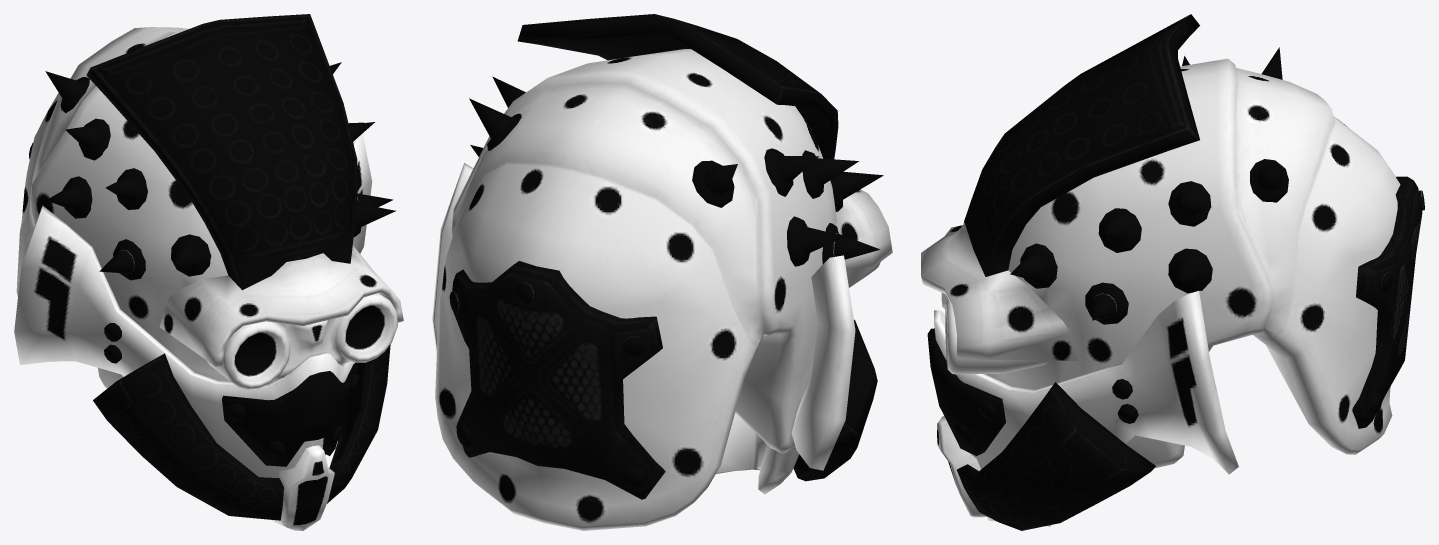
Rendered from SurvivorMale_Head_Helmet_Wasteland2_LOD0.glb.
3 renders of one model, left to right at view 1: azimuth 30°, elevation 25°; view 2: azimuth 150°, elevation 25°; view 3: azimuth 270°, elevation 25°, orthographic. The views are drawn at different scales.
Parts seen in each view (by area): view 1: Hoodie; view 2: Hoodie; view 3: Hoodie.
Part boxes in pixels (box(x1,y1,x2,y2)): Hoodie: box(14, 14, 403, 530); Hoodie: box(432, 14, 892, 530); Hoodie: box(921, 14, 1424, 530).
Bounding box in the file's own units: 0.2466 × 0.299 × 0.2865.
1 material, 1 textured.
